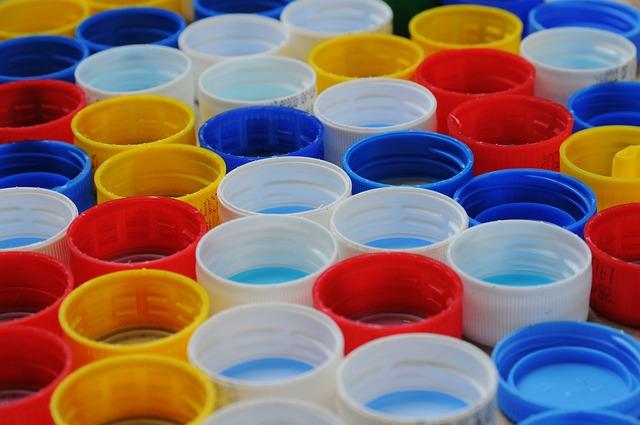Plastic: (448, 217, 600, 342), (188, 303, 349, 407), (340, 330, 495, 425), (196, 211, 342, 310), (65, 195, 207, 291), (62, 268, 209, 355), (314, 78, 441, 157), (446, 94, 570, 174), (70, 94, 201, 164), (343, 128, 472, 197), (515, 26, 639, 91), (0, 137, 99, 216), (199, 103, 327, 164), (585, 200, 640, 329), (179, 12, 296, 72), (306, 33, 422, 91), (560, 124, 640, 208), (0, 249, 72, 339), (0, 181, 72, 269), (0, 78, 91, 147), (0, 33, 90, 84)
